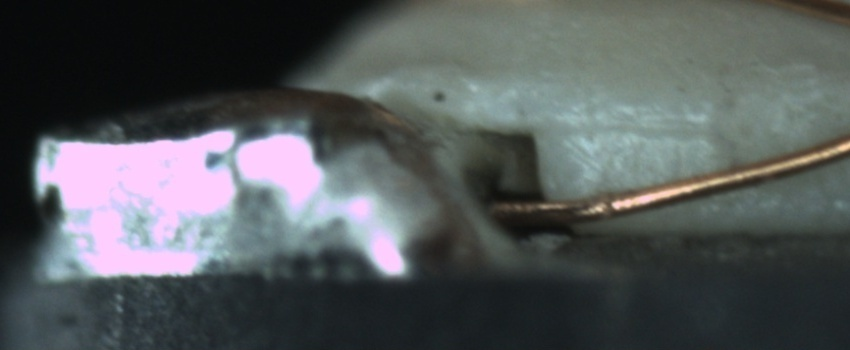DL: (556, 95, 720, 161)
